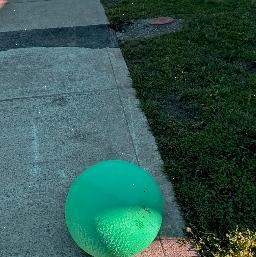algae: (62, 158, 163, 257)
